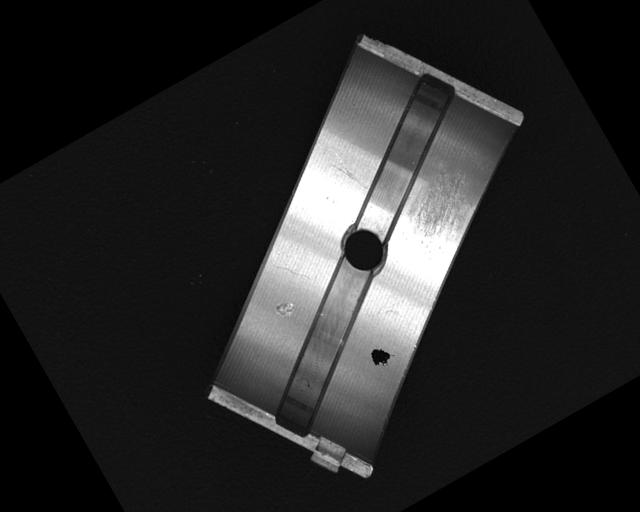blot: (366, 342, 396, 371)
bruise: (271, 296, 298, 322)
gap: (230, 255, 420, 437), (313, 63, 496, 235)
hole: (332, 218, 395, 281)
nick: (328, 148, 369, 201), (276, 254, 313, 291)
scratch: (386, 161, 498, 269)
